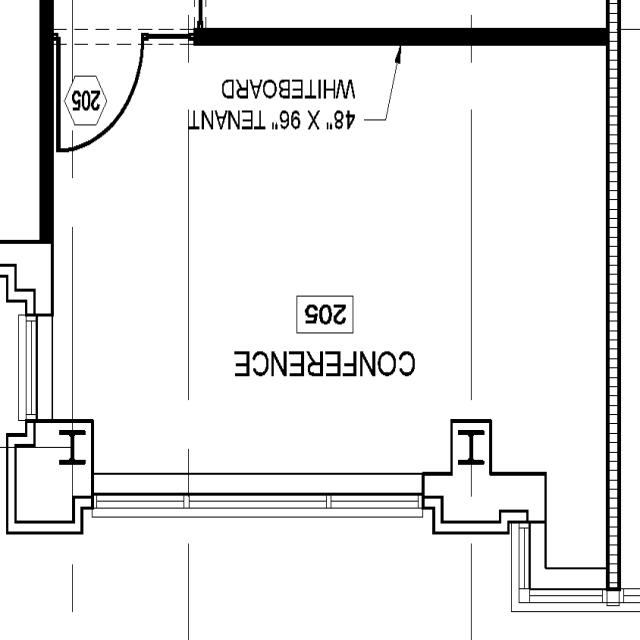Doors: (57, 26, 149, 160)
